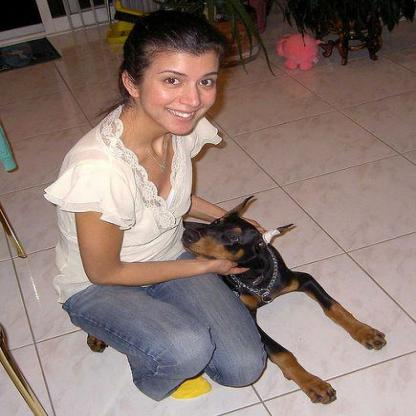Doberman: (181, 196, 386, 404)
